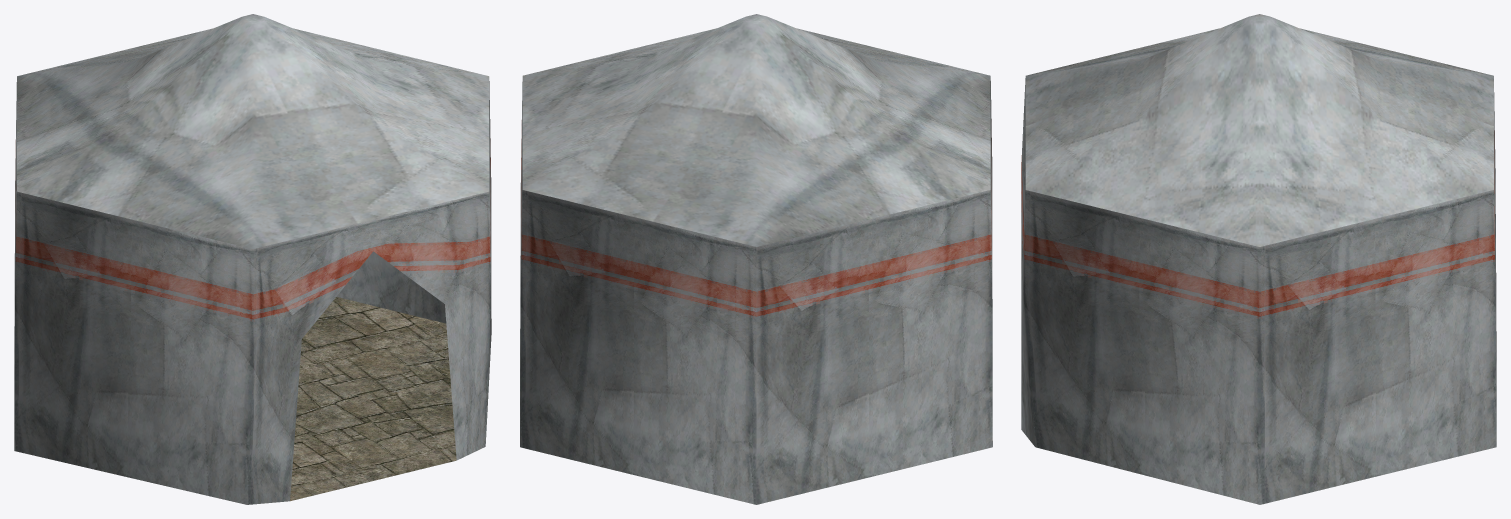
Rendered from ply_all_merchant_tent_s01_r1_mesh_r1.fbx.
3 renders of one model, left to right at view 1: azimuth 30°, elevation 25°; view 2: azimuth 150°, elevation 25°; view 3: azimuth 270°, elevation 25°, orthographic.
Parts seen in each view (by area): view 1: mesh_node; view 2: mesh_node; view 3: mesh_node.
Part boxes in pixels (x1,y1,x2,y2): mesh_node: (14,14,491,504); mesh_node: (520,14,992,504); mesh_node: (1021,14,1496,504).
Size of the model in its own units: 6.66 by 4.98 by 5.79.
